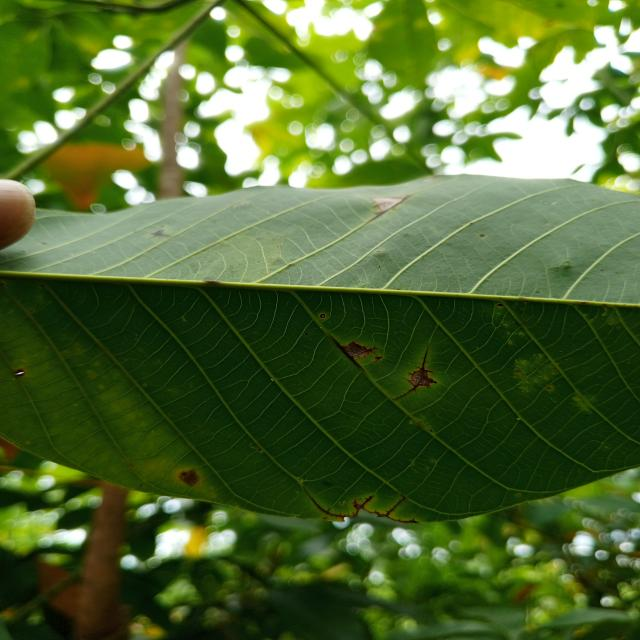Colletotrichum: (319, 314, 326, 318), (497, 303, 503, 307)
Corynespora: (392, 346, 438, 400), (328, 333, 377, 368), (366, 195, 411, 223), (304, 488, 346, 518), (384, 495, 406, 516), (352, 495, 373, 510), (388, 516, 418, 524)
Leaf-Blight: (372, 198, 402, 211), (179, 469, 199, 486)
